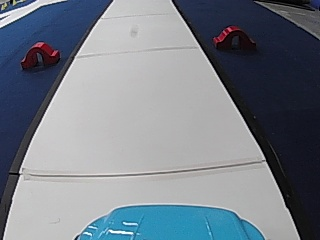bridge: (18, 39, 60, 69), (211, 23, 255, 50)
